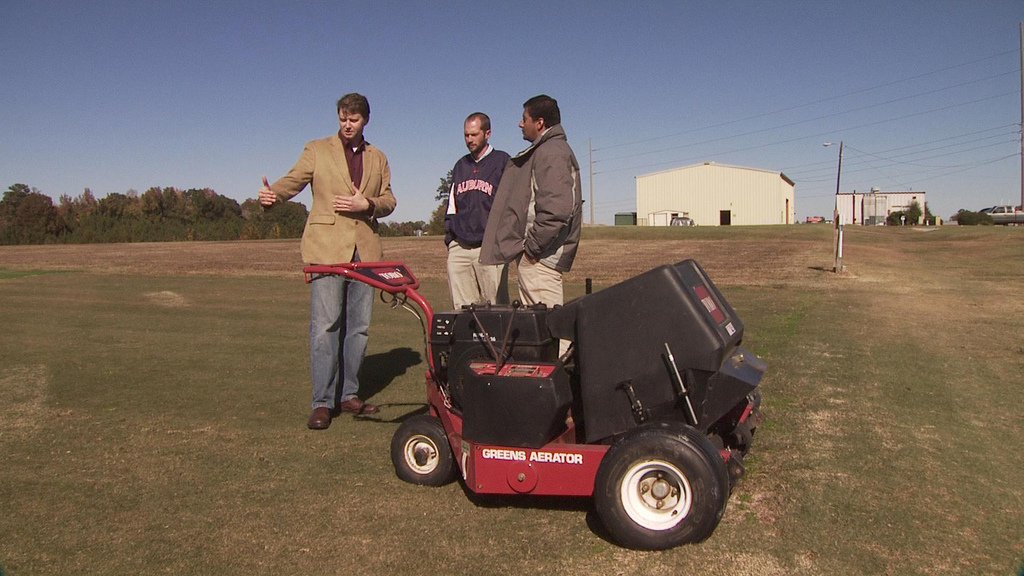Person: (477, 93, 581, 358)
